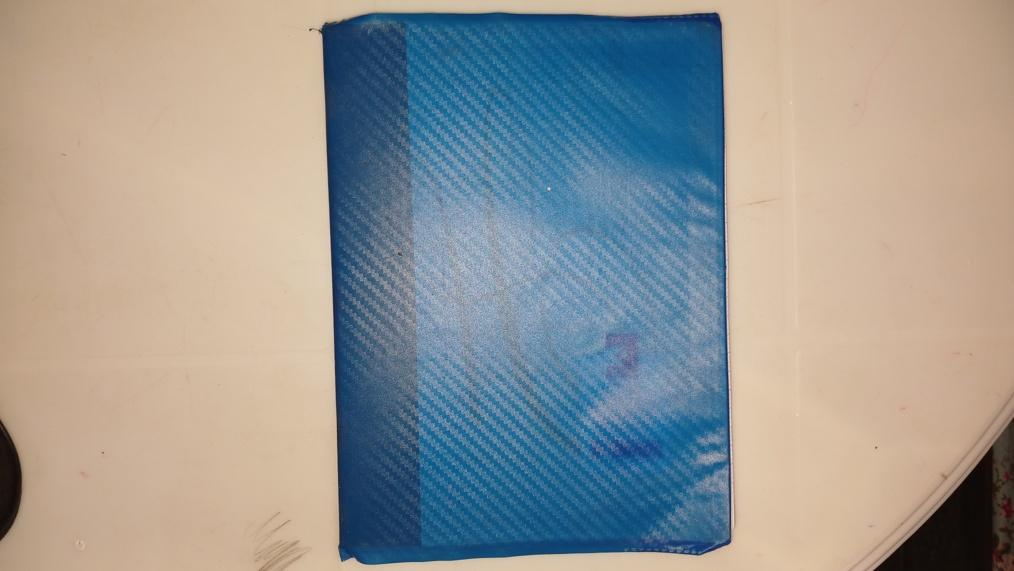notebook: (327, 14, 725, 565)
